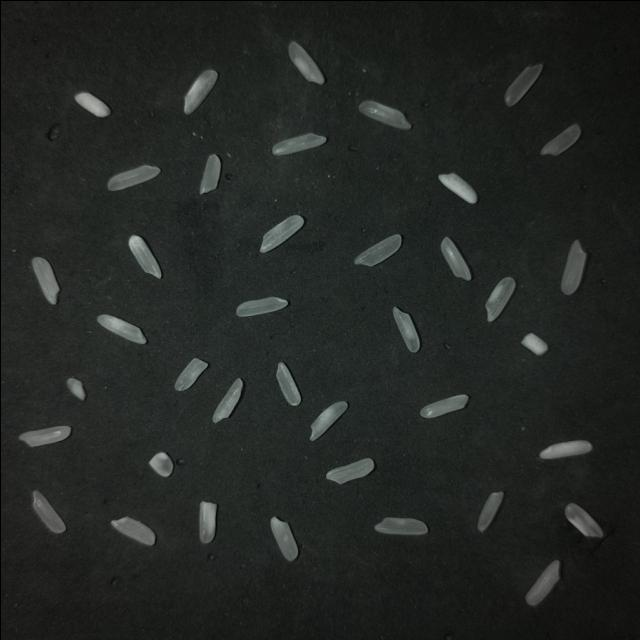chalky: (259, 214, 303, 252), (525, 559, 559, 605), (287, 41, 323, 83), (183, 69, 217, 113), (309, 401, 346, 440), (97, 314, 146, 343), (128, 234, 160, 278), (212, 377, 242, 422), (31, 256, 59, 303), (564, 502, 602, 536), (326, 457, 373, 483), (392, 306, 419, 351), (270, 516, 297, 560), (438, 172, 476, 203), (174, 357, 208, 390), (419, 394, 468, 416), (538, 439, 591, 458), (74, 91, 110, 116), (199, 501, 216, 542), (521, 332, 547, 355), (149, 451, 172, 476), (66, 377, 85, 400)
whole: (504, 63, 541, 106), (358, 99, 410, 128), (354, 234, 400, 265), (32, 490, 65, 532), (107, 164, 160, 190), (561, 239, 586, 294), (484, 276, 515, 320), (440, 236, 470, 279), (540, 123, 580, 155), (110, 516, 155, 544), (272, 132, 325, 154), (476, 490, 503, 531), (19, 425, 70, 446), (276, 362, 300, 405), (236, 296, 286, 315), (374, 516, 427, 533), (199, 154, 220, 193)
